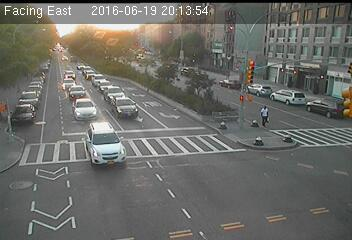neg: (217, 105, 247, 145), (68, 71, 92, 102), (303, 91, 325, 120), (203, 67, 224, 95), (216, 22, 237, 50), (324, 59, 344, 85), (139, 74, 158, 100), (285, 40, 303, 64)
pos: (256, 102, 276, 129), (1, 107, 20, 133)
